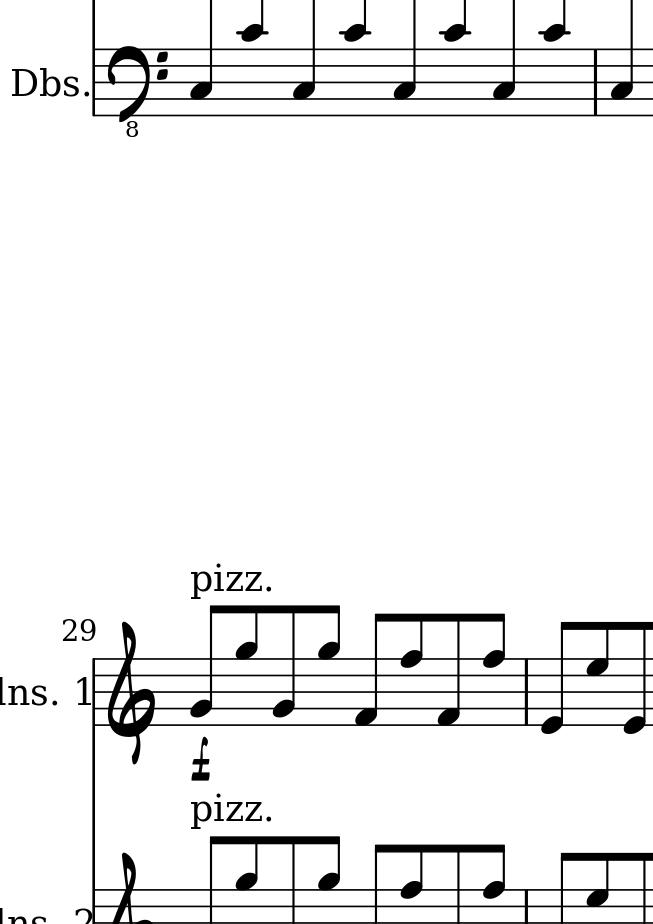2: (60, 616, 78, 645)
8_0: (538, 620, 573, 738), (621, 619, 648, 741)
8_1: (352, 610, 393, 728), (434, 612, 463, 731)
8_2: (187, 603, 223, 726), (272, 603, 298, 727)
8_7: (584, 619, 611, 731)
8_8: (398, 610, 426, 728), (479, 612, 506, 728)
8_9: (232, 602, 262, 728), (314, 603, 342, 726)
9: (77, 617, 96, 643)
Dbs: (8, 63, 80, 100)
Gclef: (103, 614, 159, 768)
Lower_Fclef: (101, 38, 171, 138)
Single_barline: (87, 660, 104, 726), (588, 49, 605, 114), (518, 658, 534, 725), (87, 49, 102, 117)
f: (189, 734, 211, 783)
